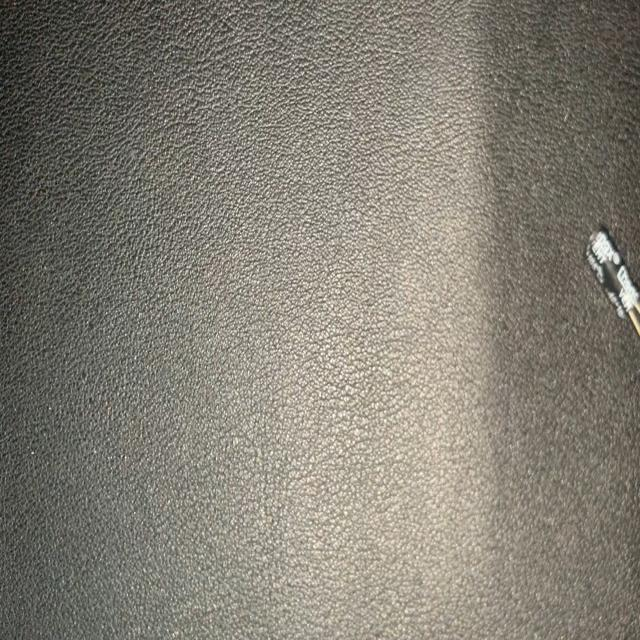capacitor: (582, 218, 640, 351)
